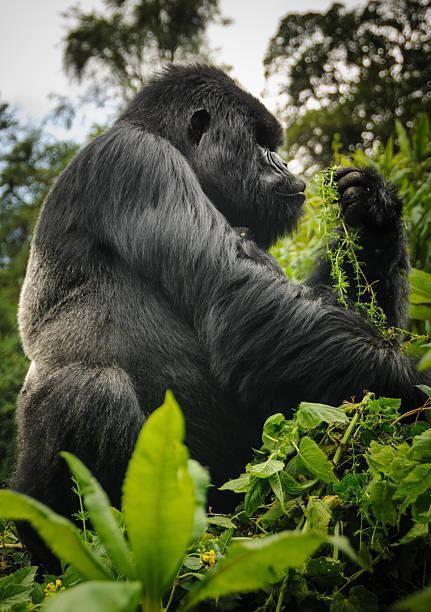goriile_montagne: (33, 34, 402, 480)
